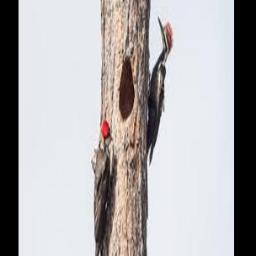Woodpecker: (147, 14, 173, 164), (93, 119, 114, 256)
